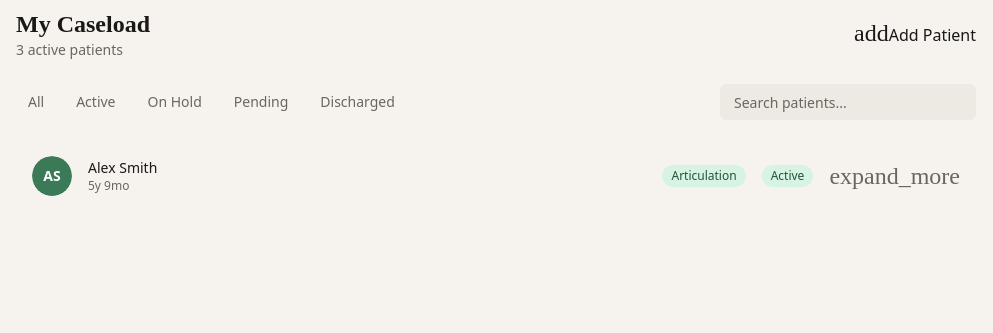
Test case: PatientsPage › shows no-match message when search has no results
This screenshot has width=993, height=333.
Type "zzzzz" into the field with placeholder "Search patients..." at (848, 102), box left=720, top=84, right=976, bottom=120
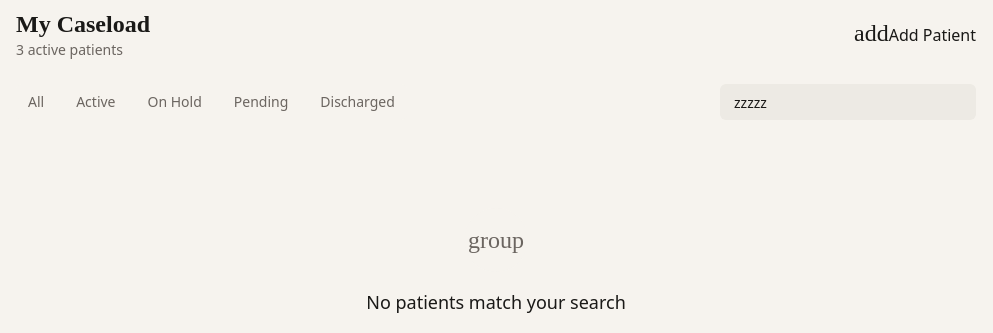
Expected: the text "No patients match your search" is shown, left=366, top=288, right=626, bottom=316
